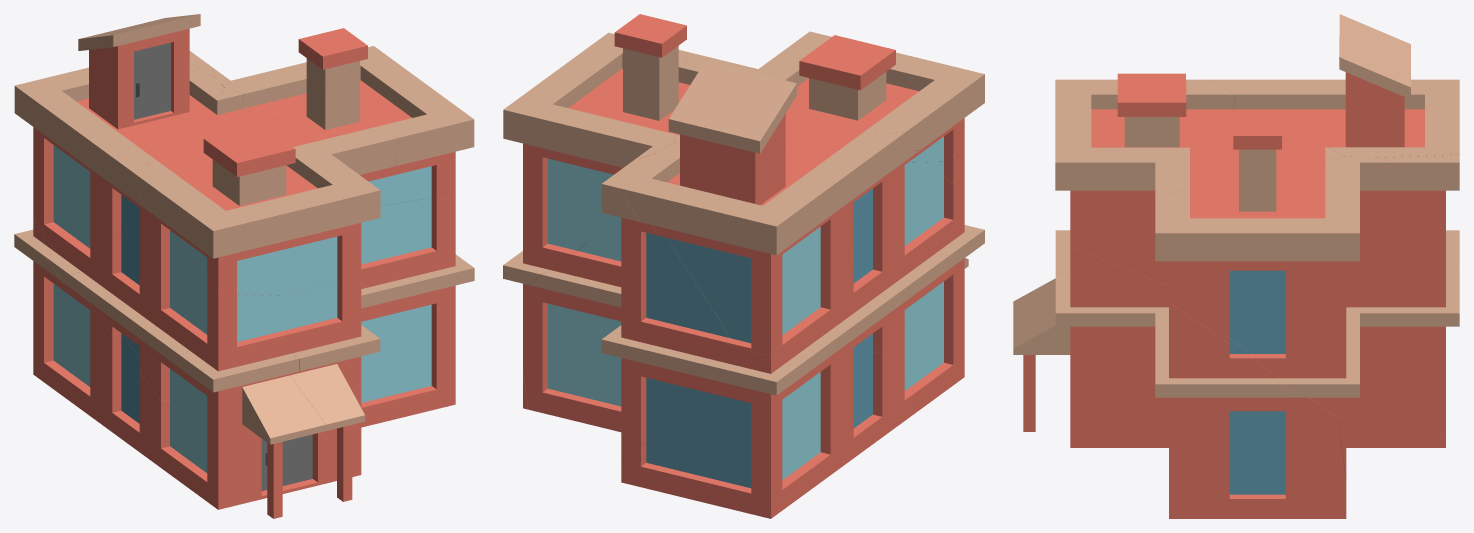
The model's file is House 3.3 Fractured.fbx.
The picture shows the model from 3 angles, left to right: view 1: azimuth 30°, elevation 25°; view 2: azimuth 150°, elevation 25°; view 3: azimuth 270°, elevation 25°; orthographic projection. The views are drawn at different scales.
Visible parts, largest first — view 1: House_Type3_3_Breaking_cell.001, House_Type3_3_Breaking_cell.008, House_Type3_3_Breaking_cell.003, House_Type3_3_Breaking_cell.004, House_Type3_3_Breaking_cell.006, House_Type3_3_Breaking_cell.005, House_Type3_3_Breaking_cell.002, House_Type3_3_Breaking_cell, House_Type3_3_Breaking_cell.009; view 2: House_Type3_3_Breaking_cell.008, House_Type3_3_Breaking_cell.007, House_Type3_3_Breaking_cell.006, House_Type3_3_Breaking_cell.009, House_Type3_3_Breaking_cell.001, House_Type3_3_Breaking_cell.005, House_Type3_3_Breaking_cell, House_Type3_3_Breaking_cell.003; view 3: House_Type3_3_Breaking_cell.006, House_Type3_3_Breaking_cell.001, House_Type3_3_Breaking_cell.004, House_Type3_3_Breaking_cell.007, House_Type3_3_Breaking_cell.002, House_Type3_3_Breaking_cell.008, House_Type3_3_Breaking_cell.003, House_Type3_3_Breaking_cell.009.
Part boxes in pixels (bbox=[...]): House_Type3_3_Breaking_cell.001: bbox=[137, 45, 398, 295]; House_Type3_3_Breaking_cell.008: bbox=[14, 14, 225, 282]; House_Type3_3_Breaking_cell.003: bbox=[172, 292, 325, 518]; House_Type3_3_Breaking_cell.004: bbox=[361, 191, 474, 427]; House_Type3_3_Breaking_cell.006: bbox=[211, 28, 474, 205]; House_Type3_3_Breaking_cell.005: bbox=[64, 196, 213, 404]; House_Type3_3_Breaking_cell.002: bbox=[284, 276, 380, 501]; House_Type3_3_Breaking_cell: bbox=[78, 294, 180, 478]; House_Type3_3_Breaking_cell.009: bbox=[14, 220, 87, 406]; House_Type3_3_Breaking_cell.008: bbox=[619, 61, 907, 358]; House_Type3_3_Breaking_cell.007: bbox=[523, 153, 730, 464]; House_Type3_3_Breaking_cell.006: bbox=[503, 14, 687, 299]; House_Type3_3_Breaking_cell.009: bbox=[621, 344, 827, 518]; House_Type3_3_Breaking_cell.001: bbox=[670, 22, 984, 162]; House_Type3_3_Breaking_cell.005: bbox=[822, 150, 960, 357]; House_Type3_3_Breaking_cell: bbox=[808, 351, 919, 484]; House_Type3_3_Breaking_cell.003: bbox=[904, 149, 984, 409]; House_Type3_3_Breaking_cell.006: bbox=[1155, 113, 1398, 417]; House_Type3_3_Breaking_cell.001: bbox=[1055, 73, 1343, 285]; House_Type3_3_Breaking_cell.004: bbox=[1155, 302, 1346, 518]; House_Type3_3_Breaking_cell.007: bbox=[1337, 154, 1459, 479]; House_Type3_3_Breaking_cell.002: bbox=[1013, 246, 1168, 447]; House_Type3_3_Breaking_cell.008: bbox=[1210, 14, 1459, 161]; House_Type3_3_Breaking_cell.003: bbox=[1013, 230, 1070, 328]; House_Type3_3_Breaking_cell.009: bbox=[1419, 230, 1459, 447].
Size of the model in its own units: 664 by 759 by 814.
